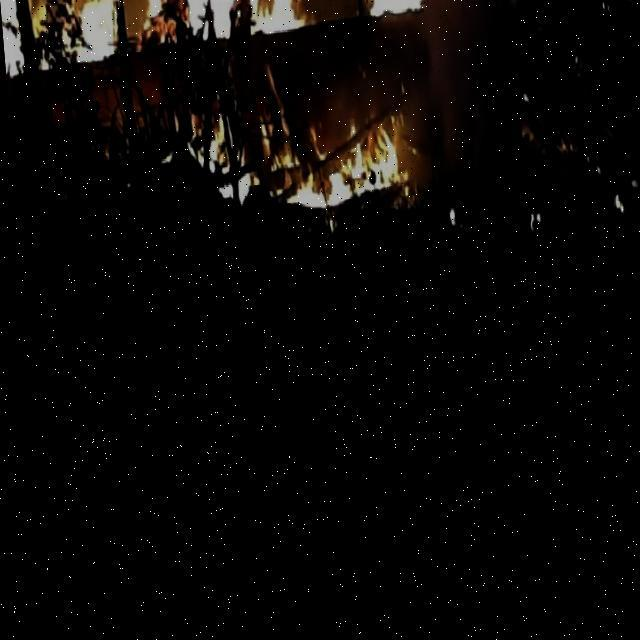Fire: (252, 68, 408, 217), (183, 98, 250, 208), (153, 0, 306, 44), (366, 0, 426, 20)
